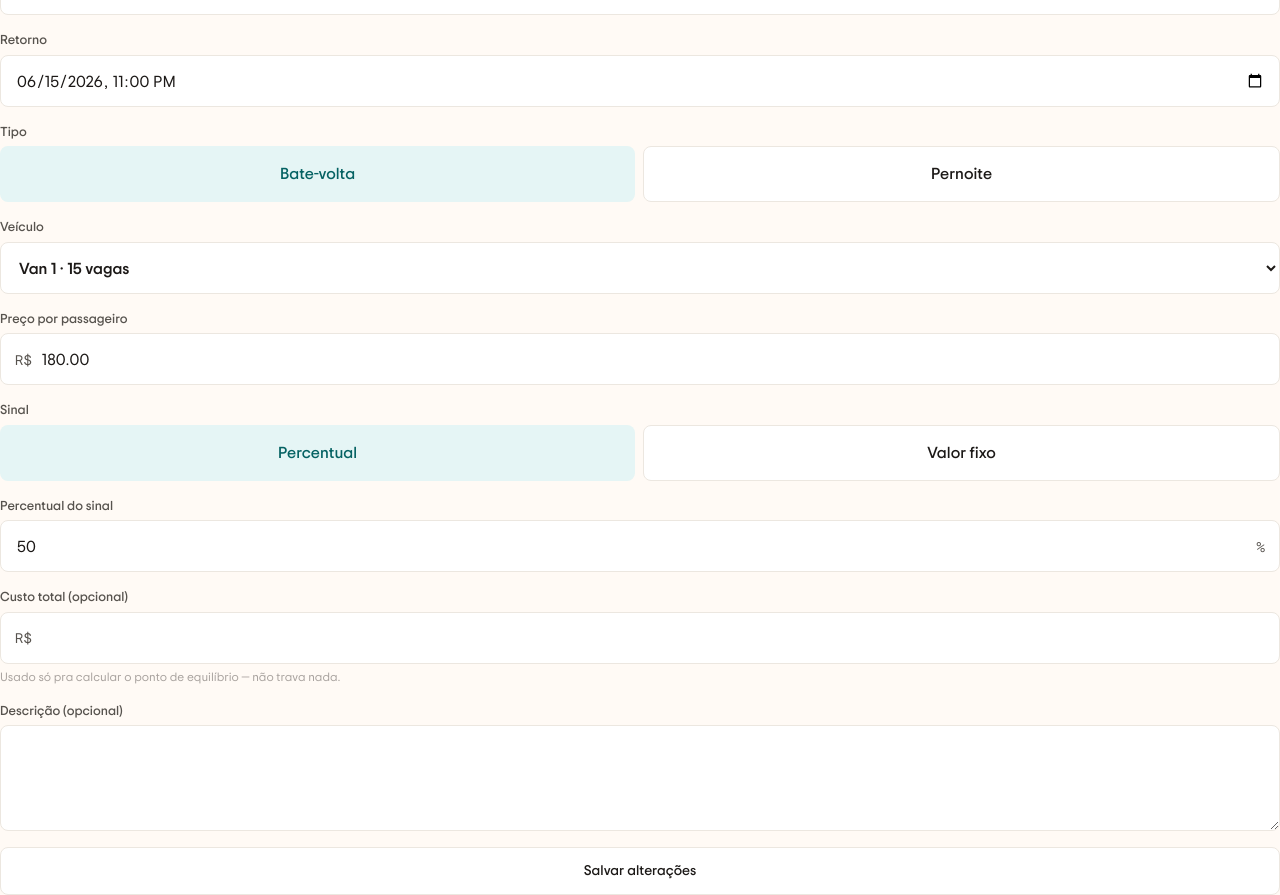
Test: DetalhesTab › mostra a mensagem pronta do servidor em conflito (troca de veículo)
(page scrolled)
Step 1. Click the button "Salvar alterações" → [640, 871], box [0,847,1279,894]
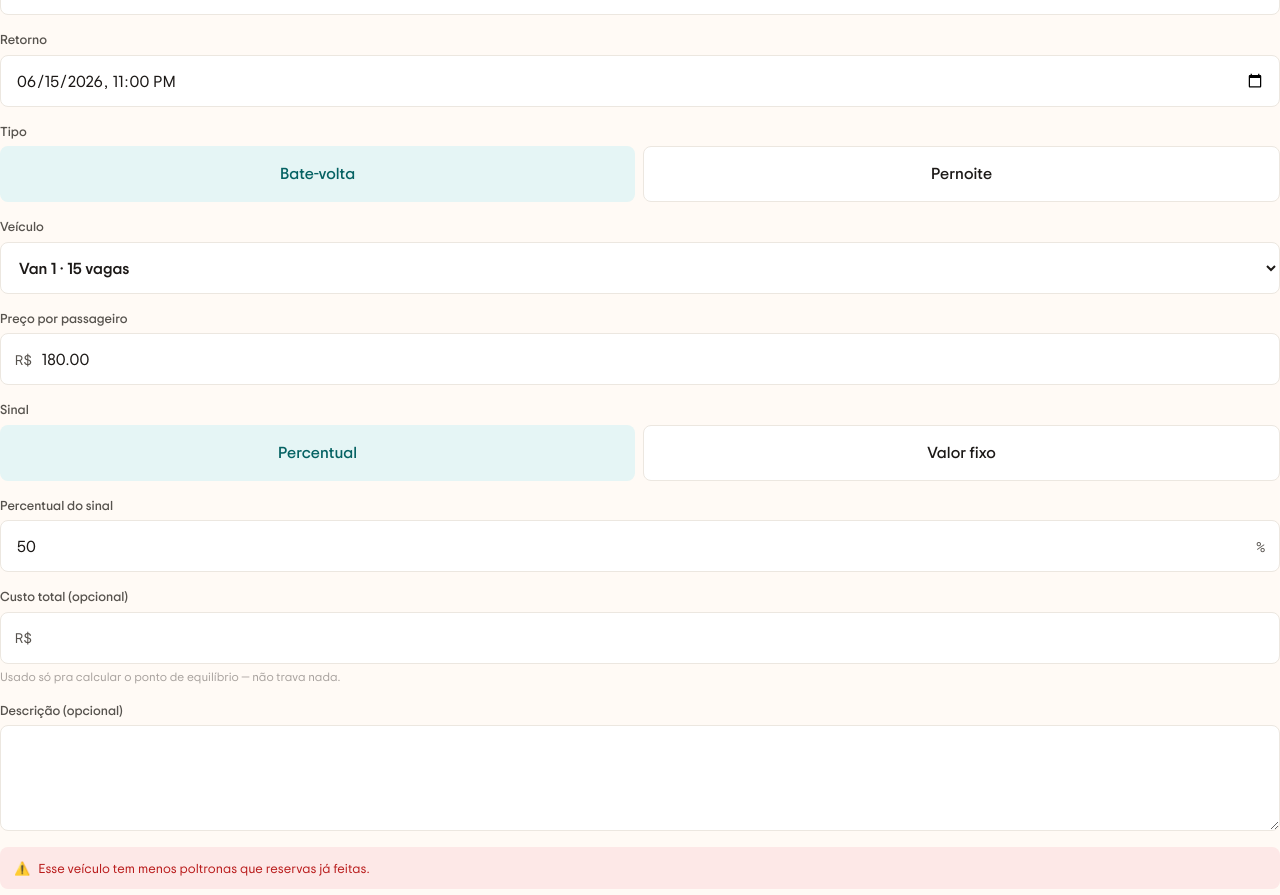
expect the text "Esse veículo tem menos poltronas que reservas já feitas." is shown: met, box [38,859,370,877]
